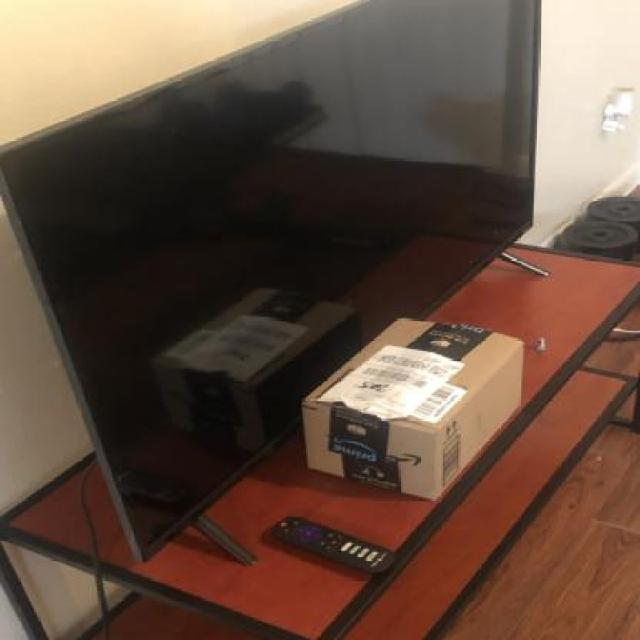cardboxes: (288, 308, 536, 510), (141, 278, 390, 462)
